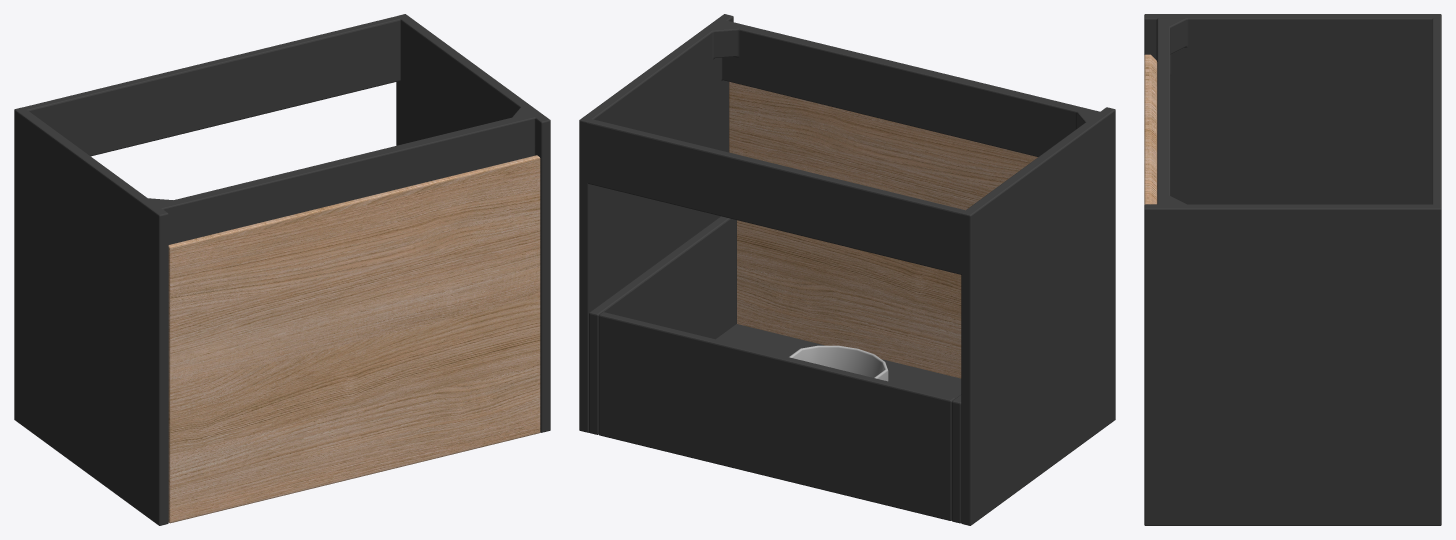
File: Vanity-Cabinet-Hybrid-Pine-600mm.glb
The picture shows the model from 3 angles, left to right: view 1: azimuth 30°, elevation 25°; view 2: azimuth 150°, elevation 25°; view 3: azimuth 270°, elevation 25°; orthographic projection. The views are drawn at different scales.
Visible parts, largest first — view 1: VC60 1; view 2: VC60 1; view 3: VC60 1.
Part boxes in pixels (x1,y1,x2,y2): VC60 1: [14, 14, 550, 525]; VC60 1: [579, 14, 1115, 525]; VC60 1: [1144, 14, 1441, 525].
Bounding box in the file's own units: 0.6 × 0.455 × 0.386.
3 materials, 1 textured.
